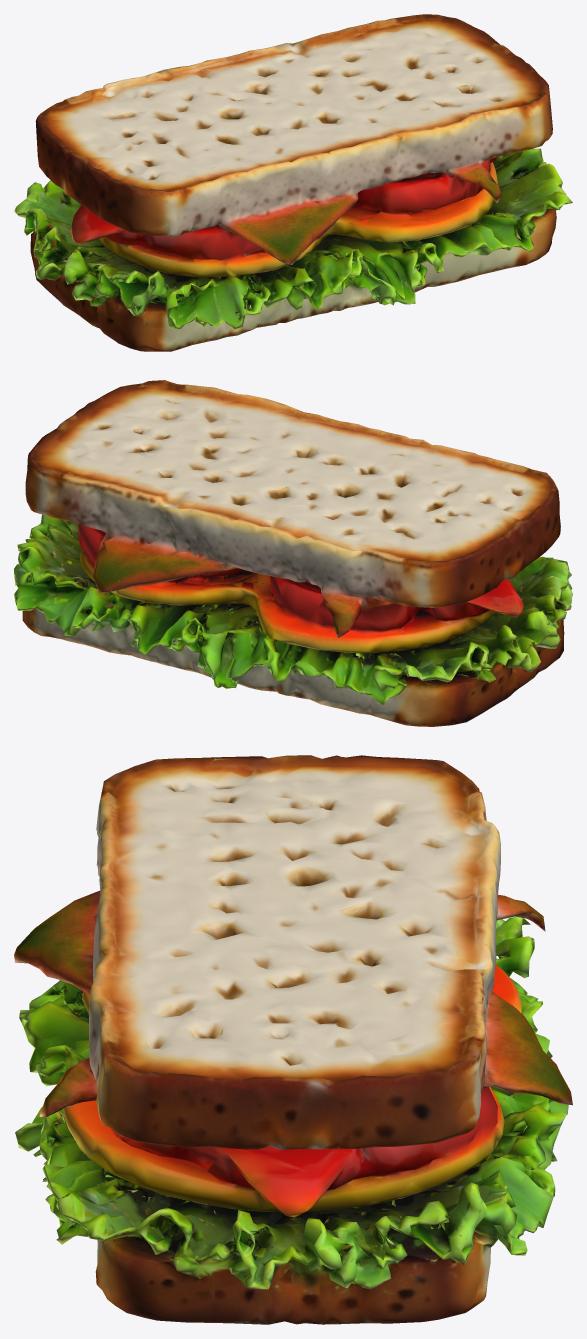
The model's file is sandwich.glb.
3 views of the same model, one above another, from view 1: azimuth 30°, elevation 25°; view 2: azimuth 150°, elevation 25°; view 3: azimuth 270°, elevation 25° (orthographic). The views are drawn at different scales.
Size of the model in its own units: 1.93 by 0.6087 by 1.23.
1 material, 1 textured.
